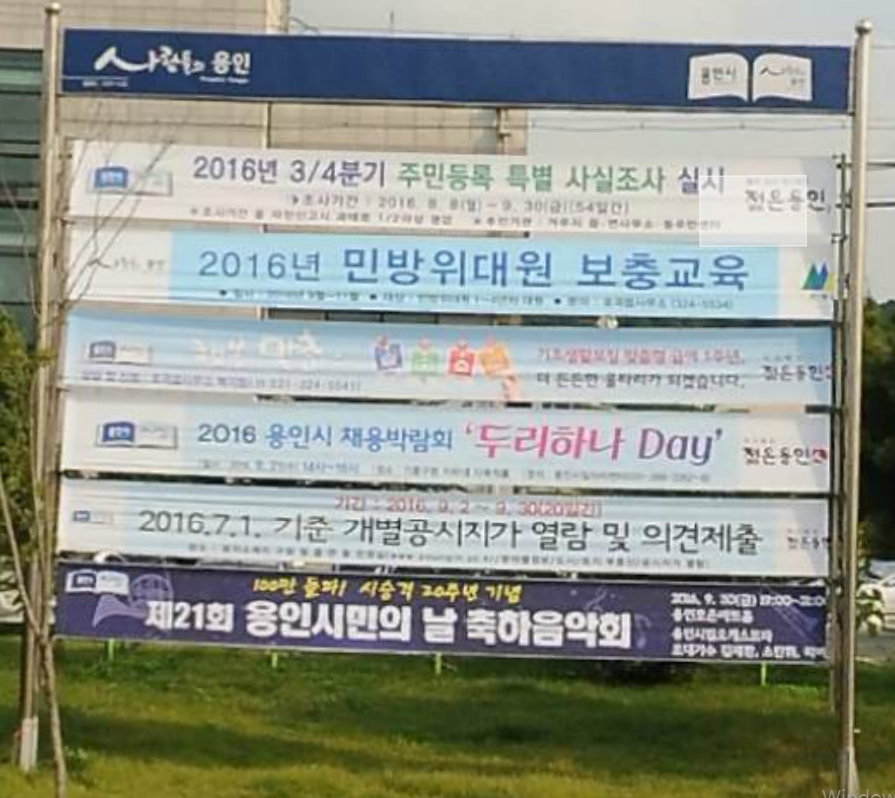banner: (22, 553, 869, 676), (46, 129, 856, 246), (35, 388, 871, 501), (28, 469, 869, 579), (35, 223, 861, 329), (36, 302, 868, 401)
